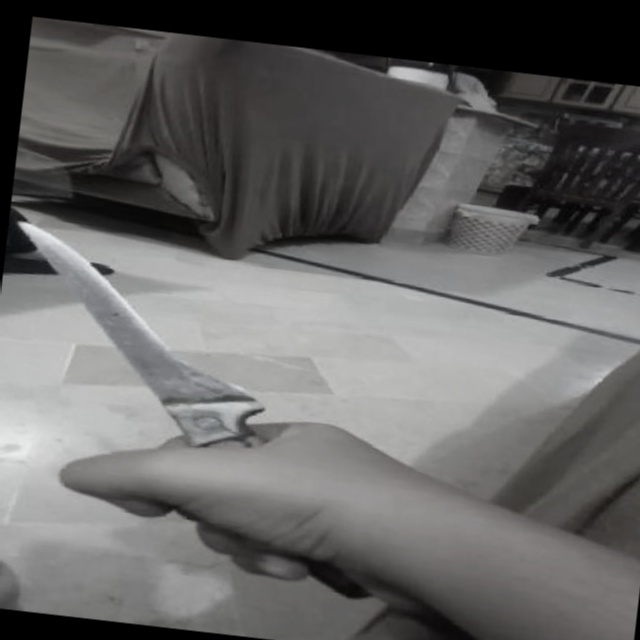Sharp-Object: (0, 223, 407, 600)
